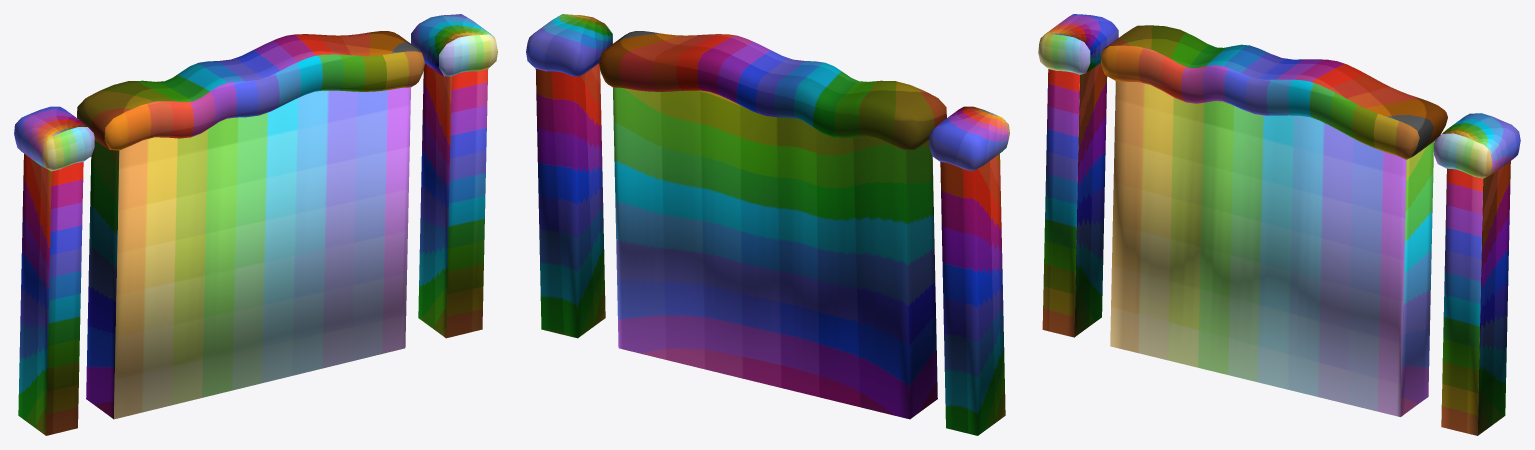
The model's file is SciFiTerrain.fbx.
3 views of the same model, side by side, from view 1: azimuth 30°, elevation 25°; view 2: azimuth 150°, elevation 25°; view 3: azimuth 330°, elevation 25° (orthographic).
Parts seen in each view (by area): view 1: Cube.004, Cube.003, Cube.005, Cube.006, Cube.001, Cube.002; view 2: Cube.004, Cube.003, Cube.005, Cube.006, Cube.001, Cube.002; view 3: Cube.004, Cube.003, Cube.005, Cube.006, Cube.001, Cube.002.
Part boxes in pixels (x1,y1,x2,y2): Cube.004: (86,87,410,419); Cube.003: (77,31,424,150); Cube.005: (418,63,488,338); Cube.006: (18,154,83,435); Cube.001: (411,14,497,76); Cube.002: (14,106,94,171); Cube.004: (613,87,937,419); Cube.003: (599,31,946,150); Cube.005: (535,63,605,338); Cube.006: (940,154,1005,435); Cube.001: (526,14,612,76); Cube.002: (929,106,1009,171); Cube.004: (1110,81,1433,416); Cube.003: (1101,25,1447,159); Cube.005: (1441,161,1510,435); Cube.006: (1042,63,1107,337); Cube.001: (1434,113,1520,178); Cube.002: (1038,14,1118,74).
Size of the model in its own units: 5457 by 3608 by 763.
1 material, 1 textured.
